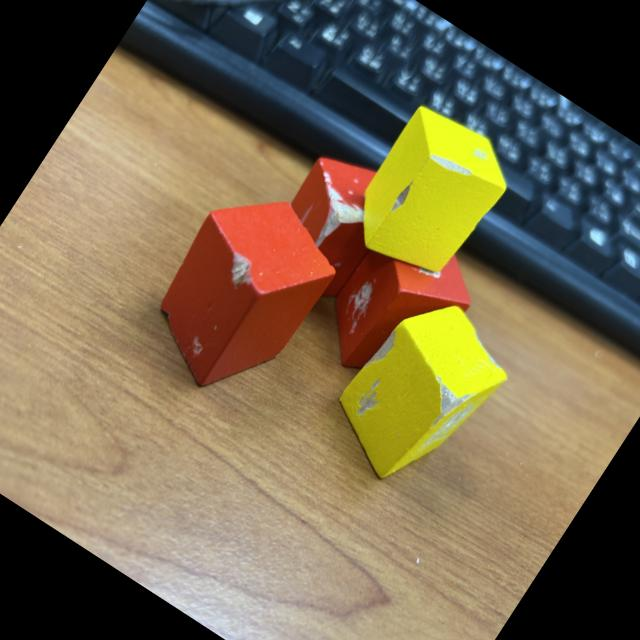broken: (127, 168, 355, 416), (312, 280, 526, 508), (306, 208, 490, 406), (337, 98, 522, 294), (255, 138, 418, 312)
